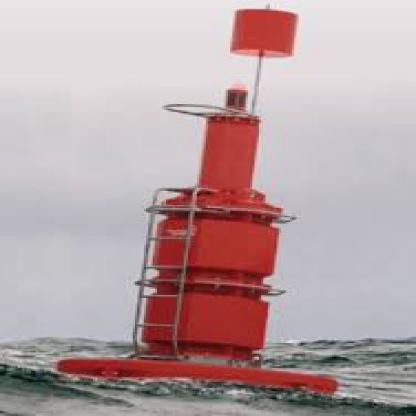buoy: (40, 2, 345, 398)
